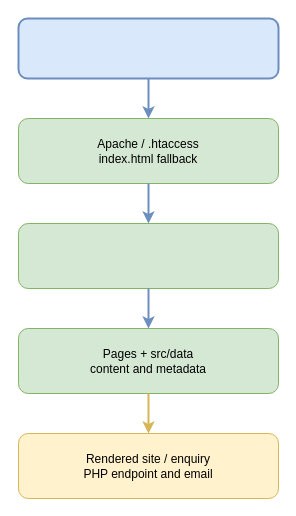
Image size: 296x516. Some labels were removed from this diagram. Here are the shapes that lost their labels. From the top down, the box of each, then its label:
(17, 17, 279, 79): Browser request
(18, 222, 278, 288): React App.tsx route and shared layout
